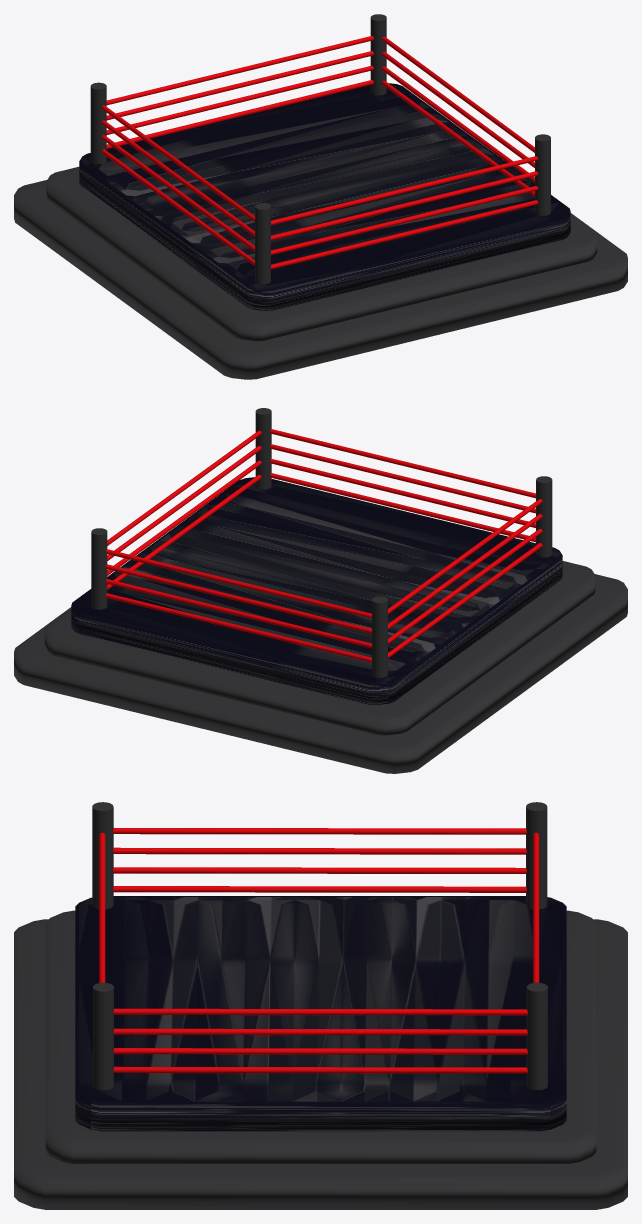
Rendered from Ring.fbx.
The picture shows the model from 3 angles, top to bottom: view 1: azimuth 30°, elevation 25°; view 2: azimuth 150°, elevation 25°; view 3: azimuth 270°, elevation 25°; orthographic projection. The views are drawn at different scales.
Visible parts, largest first — view 1: Cube, Cube.002, Cube.001, Cylinder.001, Cylinder.007, Cylinder.008, Cylinder.002, Cylinder.004, Cylinder.009, Cylinder.011, Cylinder.010, Cylinder.003 (+11 smaller); view 2: Cube, Cube.002, Cube.001, Cylinder.009, Cylinder.007, Cylinder.010, Cylinder.011, Cylinder.008, Cylinder.001, Cylinder.004, Cylinder.002, Cylinder.005 (+11 smaller); view 3: Cube, Cube.002, Cube.001, Cylinder.022, Cylinder.025, Cylinder.026, Cylinder.019, Cylinder.020, Cylinder.021, Cylinder.024, Cylinder.023, Cylinder.005 (+5 smaller).
Part boxes in pixels (x1,y1,x2,y2): Cube: (79,83,570,310); Cube.002: (14,180,627,379); Cube.001: (46,167,597,341); Cylinder.001: (271,171,538,240); Cylinder.007: (106,36,373,105); Cylinder.008: (271,156,538,225); Cylinder.002: (271,200,538,269); Cylinder.004: (271,186,538,255); Cylinder.009: (106,51,373,120); Cylinder.011: (106,65,373,134); Cylinder.010: (106,80,373,149); Cylinder.003: (255,203,270,284); Cube: (71,477,562,704); Cube.002: (14,574,627,773); Cube.001: (44,561,595,735); Cylinder.009: (105,564,371,633); Cylinder.007: (105,549,371,618); Cylinder.010: (105,593,371,662); Cylinder.011: (105,579,371,648); Cylinder.008: (270,429,535,498); Cylinder.001: (269,444,535,513); Cylinder.004: (270,459,535,527); Cylinder.002: (270,473,535,542); Cylinder.005: (91,528,107,609); Cube: (75,896,566,1131); Cube.002: (14,919,627,1209); Cube.001: (45,910,596,1163); Cylinder.022: (113,1048,527,1054); Cylinder.025: (113,886,526,892); Cylinder.026: (113,867,526,873); Cylinder.019: (113,1008,527,1015); Cylinder.020: (113,1028,527,1035); Cylinder.021: (113,1066,527,1073); Cylinder.024: (113,847,526,854); Cylinder.023: (113,828,526,834); Cylinder.005: (526,982,547,1089).
Size of what is drawn, in the model's own units: 1500 by 498 by 1500.
